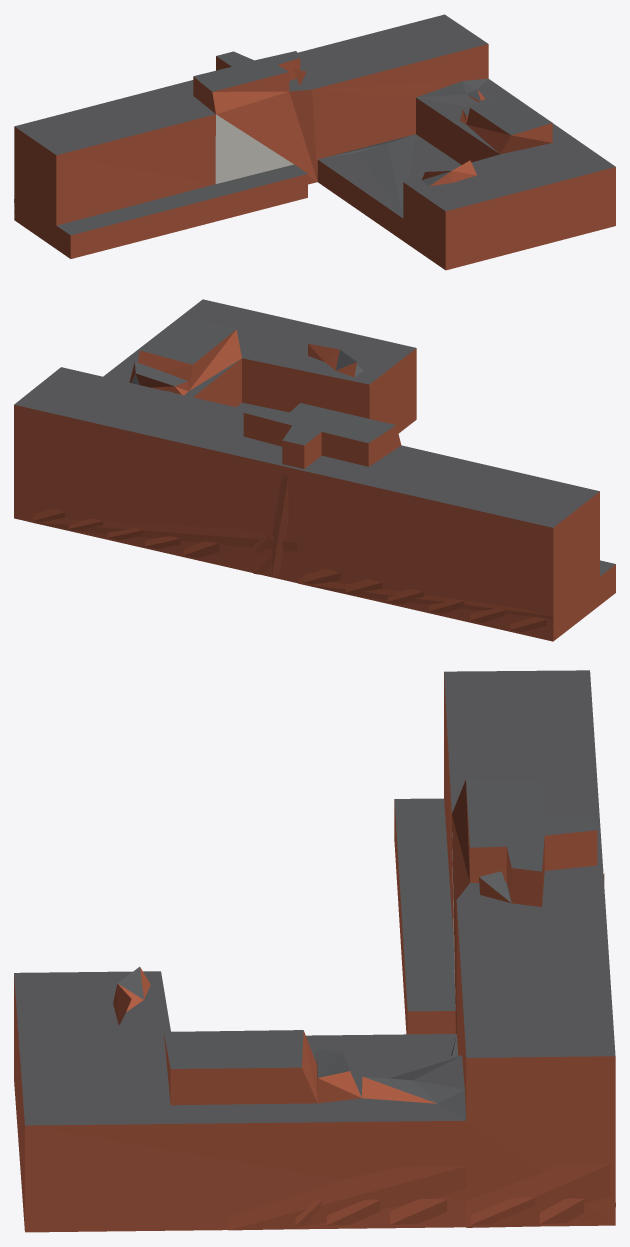
Rendered from haarlemmerweg-333.lod2.glb.
3 renders of one model, top to bottom at view 1: azimuth 30°, elevation 25°; view 2: azimuth 150°, elevation 25°; view 3: azimuth 270°, elevation 25°, orthographic. The views are drawn at different scales.
Visible parts, largest first — view 1: lod2; view 2: lod2; view 3: lod2.
Part boxes in pixels (x1,y1,x2,y2): lod2: [14, 14, 615, 270]; lod2: [14, 299, 615, 641]; lod2: [14, 670, 615, 1232].
Bounding box in the file's own units: 94.28 × 22.96 × 61.05.
